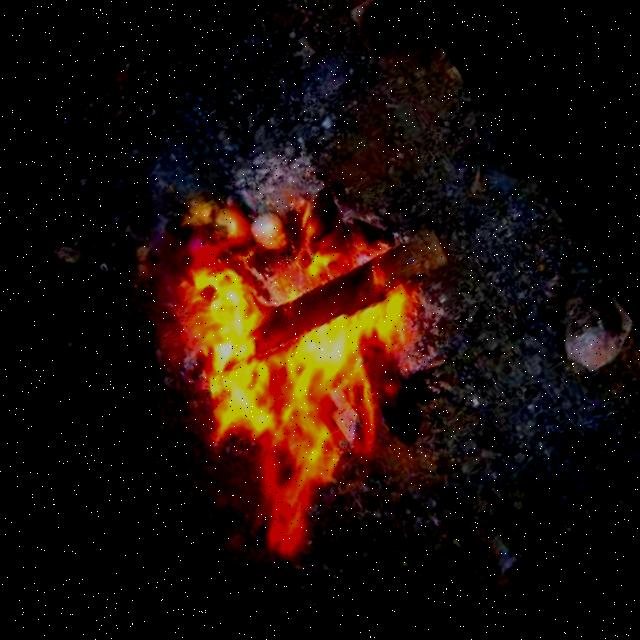Fire: (85, 158, 494, 581)
